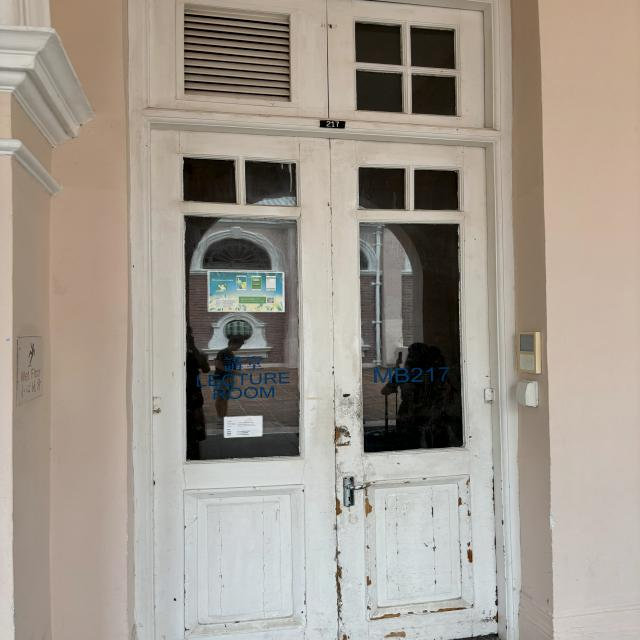MB217_roomNumber: (316, 116, 352, 134)
MB217_wordsOnWindow: (370, 364, 453, 386)
